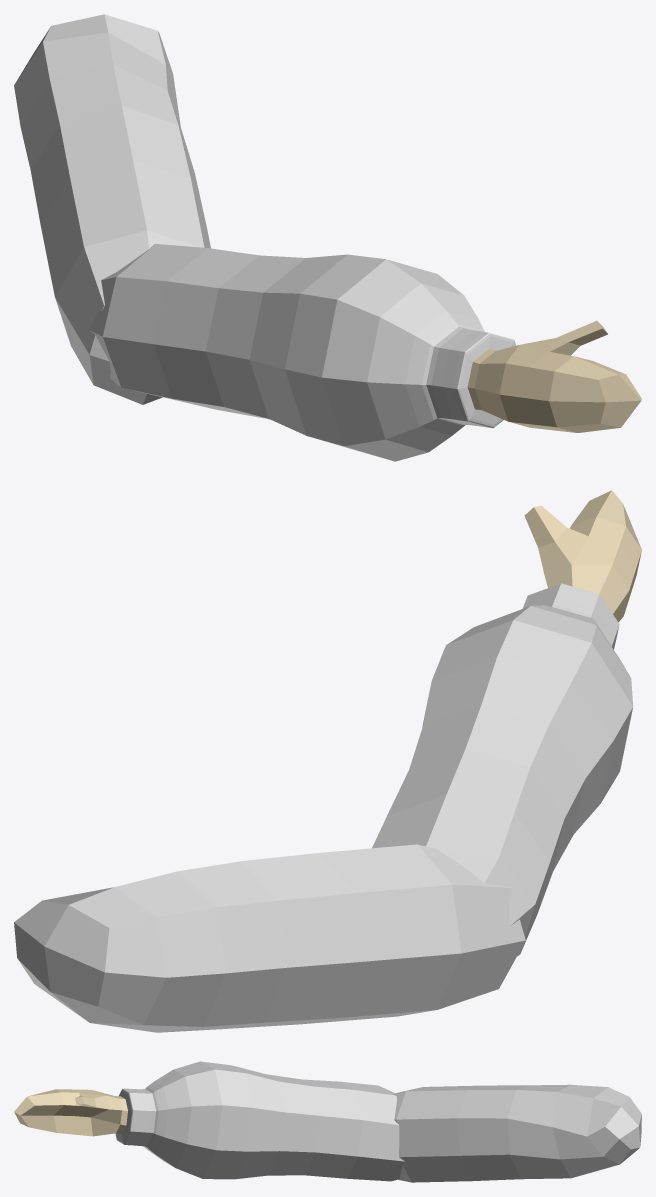
File: BracoProta_Arm.fbx
3 renders of one model, top to bottom at view 1: azimuth 30°, elevation 25°; view 2: azimuth 150°, elevation 25°; view 3: azimuth 270°, elevation 25°, orthographic. The views are drawn at different scales.
Parts seen in each view (by area): view 1: PlayerArm_Right; view 2: PlayerArm_Right; view 3: PlayerArm_Right.
Part boxes in pixels (x1,y1,x2,y2): PlayerArm_Right: (14, 14, 641, 461); PlayerArm_Right: (14, 490, 641, 1032); PlayerArm_Right: (14, 1061, 641, 1182).
Size of the model in its own units: 0.2243 by 0.1729 by 0.761.
Materials: 2 (1 with a texture image).
